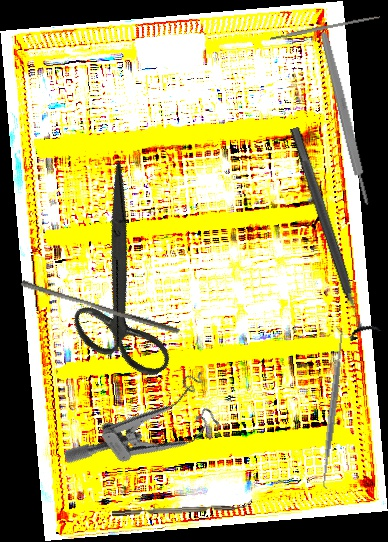Chopper: (111, 499, 253, 516)
Fixation Ring: (277, 122, 383, 342)
Iris Scissors: (9, 161, 234, 399)
Pusher: (18, 279, 183, 335)
Scalpel Handle: (318, 30, 372, 207), (269, 14, 381, 41)
Spatula Surgical: (313, 326, 352, 490)
Speculum: (60, 358, 234, 511)
